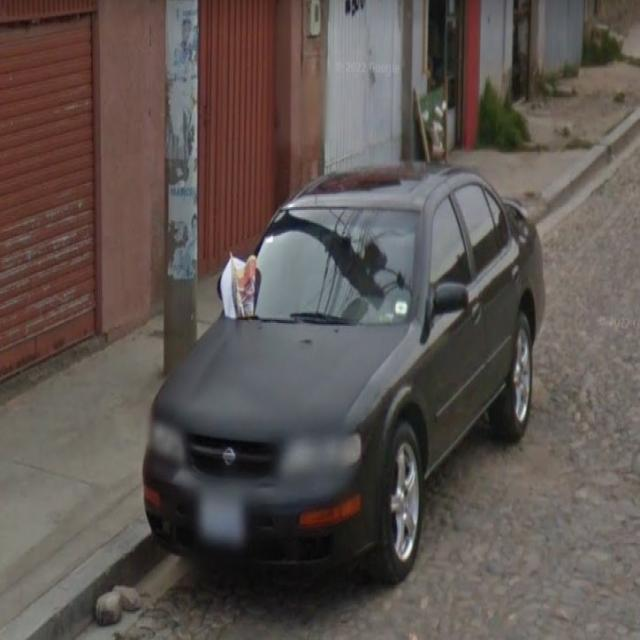Car: (147, 169, 537, 584)
